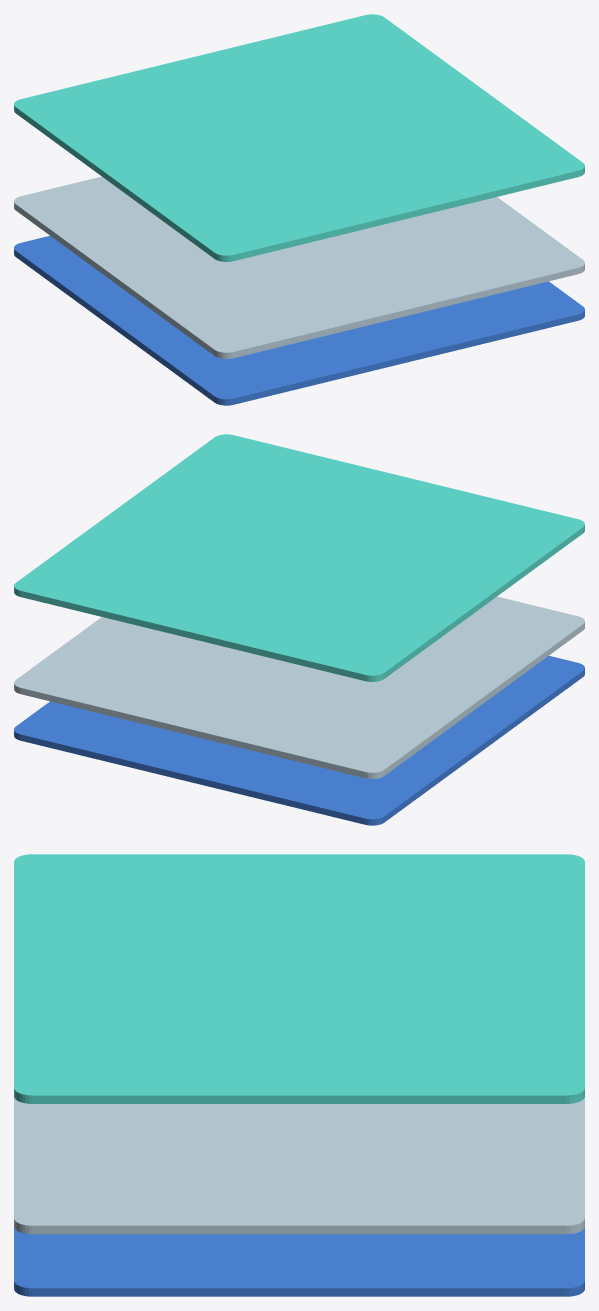
File: layers.glb
3 views of the same model, one above another, from view 1: azimuth 30°, elevation 25°; view 2: azimuth 150°, elevation 25°; view 3: azimuth 270°, elevation 25° (orthographic). The views are drawn at different scales.
Parts seen in each view (by area): view 1: Cube.002, Cube.001, Cube; view 2: Cube.002, Cube.001, Cube; view 3: Cube.002, Cube.001, Cube.
Boxes of the visible parts, bbox=[...] form: Cube.002: bbox=[14, 14, 584, 261]; Cube.001: bbox=[14, 176, 584, 358]; Cube: bbox=[14, 236, 584, 405]; Cube.002: bbox=[14, 434, 584, 681]; Cube.001: bbox=[14, 596, 584, 778]; Cube: bbox=[14, 656, 584, 825]; Cube.002: bbox=[14, 854, 584, 1103]; Cube.001: bbox=[14, 1097, 584, 1234]; Cube: bbox=[14, 1227, 584, 1296].
Size of the model in its own units: 3.3 by 1.28 by 3.3.
